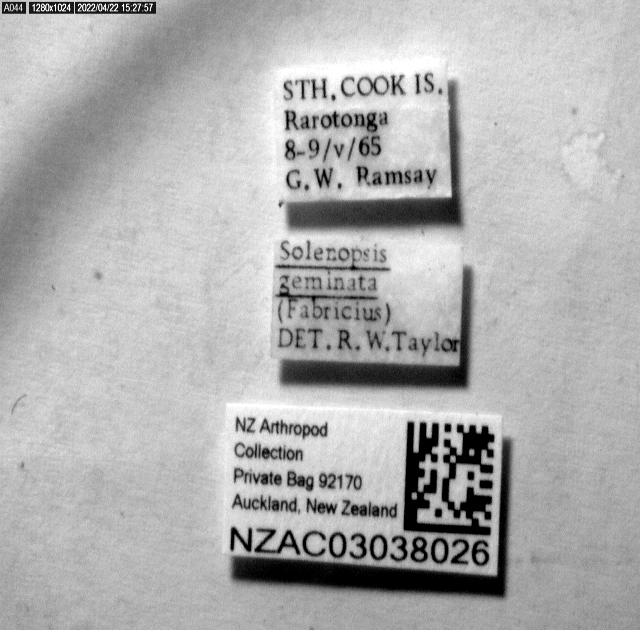typed_label: (224, 405, 501, 577), (275, 61, 451, 203), (271, 239, 462, 366)
